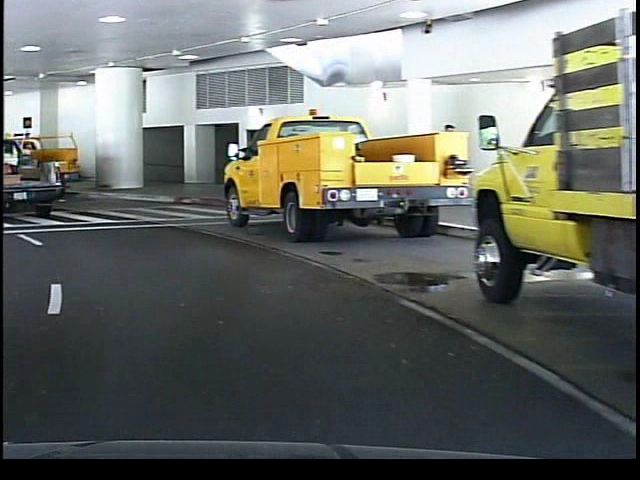person: (432, 116, 463, 212)
